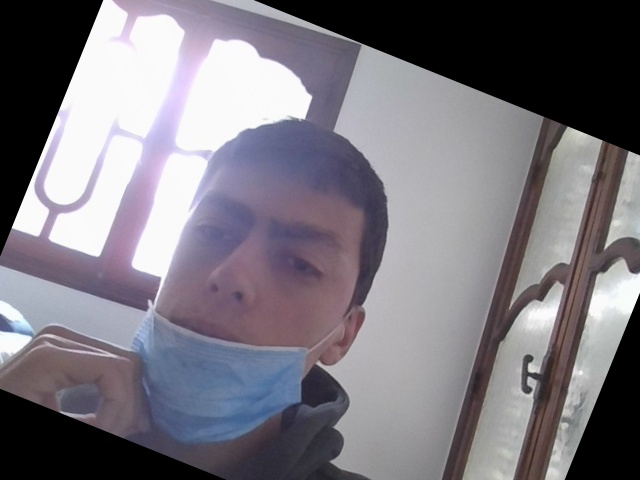mask_weared_incorrect: (135, 142, 354, 432)
